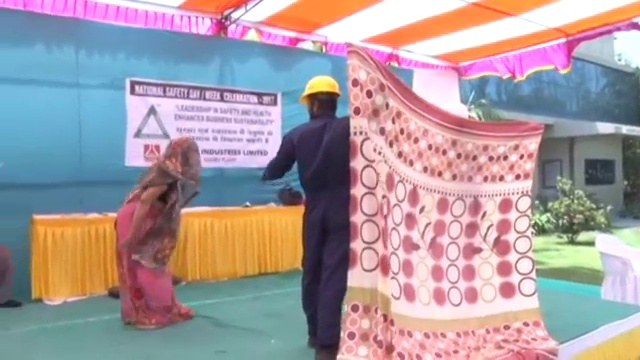helmet: (300, 75, 342, 103)
helmet_off: (166, 135, 199, 161)
helmet_on: (299, 74, 343, 121)
person: (264, 75, 353, 360), (114, 134, 205, 327)
